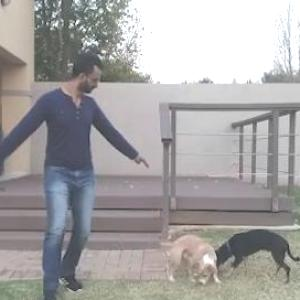land: (1, 51, 153, 298)
